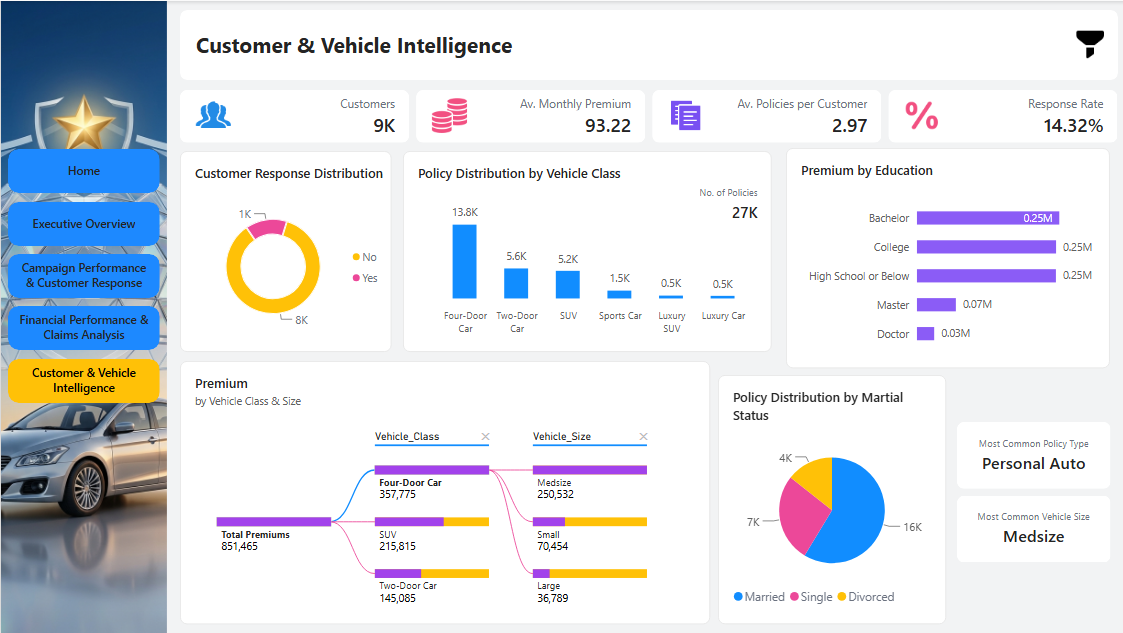

What the dashboard file says about the page in this screenshot:
{"tool":"powerbi","page":{"name":"Customer & Vehicle Intelligence","canvas":[1280,720],"ordinal":4},"visuals":[{"type":"shape","box":[0,0,188.6,719.5],"z":0},{"type":"image","box":[0,0,189.1,720],"z":1000},{"type":"shape","box":[203.9,10.3,1068.6,79.7],"z":2000},{"type":"cardVisual","fields":{"Data":["DAX MEASURES.Customers","DAX MEASURES.Av. Monthly Premium","DAX MEASURES.Av. Policies per Customer","DAX MEASURES.Response Rate"]},"box":[203.9,101.4,1069.7,60.4],"z":3000},{"type":"clusteredColumnChart","title":"Policy Distribution by Vehicle Class","fields":{"Category":["Dim_Vehicles.Vehicle_Class"],"Y":["DAX MEASURES.No. of Policies"]},"box":[458,170.9,420.4,229],"z":4000},{"type":"donutChart","title":"Customer Response Distribution","fields":{"Category":["Dim_Customers.Response"],"Y":["DAX MEASURES.Customers"]},"box":[203.5,171.1,241.2,229.1],"z":5000},{"type":"clusteredBarChart","title":"Premium by Education","fields":{"Category":["Dim_Customers.Education"],"Y":["DAX MEASURES.Total Premiums"]},"box":[894.3,167.5,369.1,250.6],"z":6000},{"type":"textbox","box":[222.2,33,500.1,34.2],"z":7000},{"type":"image","box":[1217.8,28.5,45.6,42.2],"z":8000},{"type":"decompositionTreeVisual","title":"Premium","fields":{"Analyze":["DAX MEASURES.Total Premiums"],"ExplainBy":["Dim_Vehicles.Vehicle_Class","Dim_Vehicles.Vehicle_Size"]},"box":[203.9,410.1,603.8,299.6],"z":9000},{"type":"cardVisual","fields":{"Data":["DAX MEASURES.No. of Policies"]},"box":[754.2,201.6,124.2,60.4],"z":10000},{"type":"pieChart","title":"Policy Distribution by Martial Status","fields":{"Category":["Dim_Customers.Marital_Status"],"Y":["DAX MEASURES.No. of Policies"]},"box":[816.8,426.1,259.7,283.7],"z":11000},{"type":"cardVisual","fields":{"Data":["DAX MEASURES.Most Common Policy Type","DAX MEASURES.Most Common Vehicle Size"]},"box":[1088.7,479.7,175.2,160.3],"z":12000},{"type":"pageNavigator","box":[8,168.6,173.2,50.1],"z":14000},{"type":"pageNavigator","box":[8,229,173.2,50.1],"z":15000},{"type":"pageNavigator","box":[8,288,173.2,50.1],"z":16000},{"type":"pageNavigator","box":[8,348,173.2,50.1],"z":17000},{"type":"pageNavigator","box":[8,408,173.2,50.1],"z":18000}]}

Visuals, with their boxes in screenshot pixels (x1, y1, x2, y2), scaled from the page's 1280x720 canvas onto the 1123x633 screenshot:
shape: bbox=[0, 0, 165, 632]
image: bbox=[0, 0, 166, 632]
shape: bbox=[179, 9, 1116, 79]
cardVisual - DAX MEASURES.Customers x DAX MEASURES.Av. Monthly Premium: bbox=[179, 89, 1117, 142]
"Policy Distribution by Vehicle Class" clusteredColumnChart: bbox=[402, 150, 771, 352]
"Customer Response Distribution" donutChart: bbox=[179, 150, 390, 352]
"Premium by Education" clusteredBarChart: bbox=[785, 147, 1108, 368]
textbox: bbox=[195, 29, 634, 59]
image: bbox=[1068, 25, 1108, 62]
"Premium" decompositionTreeVisual: bbox=[179, 361, 709, 624]
cardVisual - DAX MEASURES.No. of Policies: bbox=[662, 177, 771, 230]
"Policy Distribution by Martial Status" pieChart: bbox=[717, 375, 944, 624]
cardVisual - DAX MEASURES.Most Common Policy Type x DAX MEASURES.Most Common Vehicle Size: bbox=[955, 422, 1109, 563]
pageNavigator: bbox=[7, 148, 159, 192]
pageNavigator: bbox=[7, 201, 159, 245]
pageNavigator: bbox=[7, 253, 159, 297]
pageNavigator: bbox=[7, 306, 159, 350]
pageNavigator: bbox=[7, 359, 159, 403]
